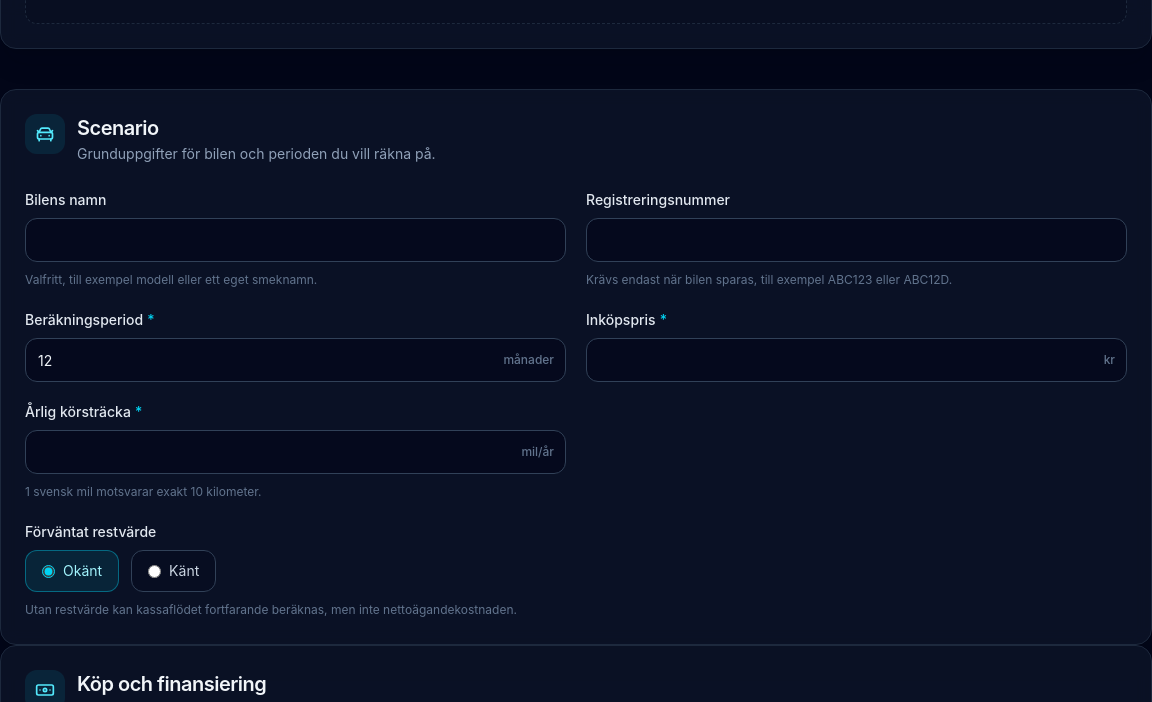
it: ManualCalculatorPage › shows the complete calculation breakdown and marks it stale after editing
(page scrolled)
Type "20000" into the field labelled "Inköpspris*" at (856, 360), box [586,338,1127,382]
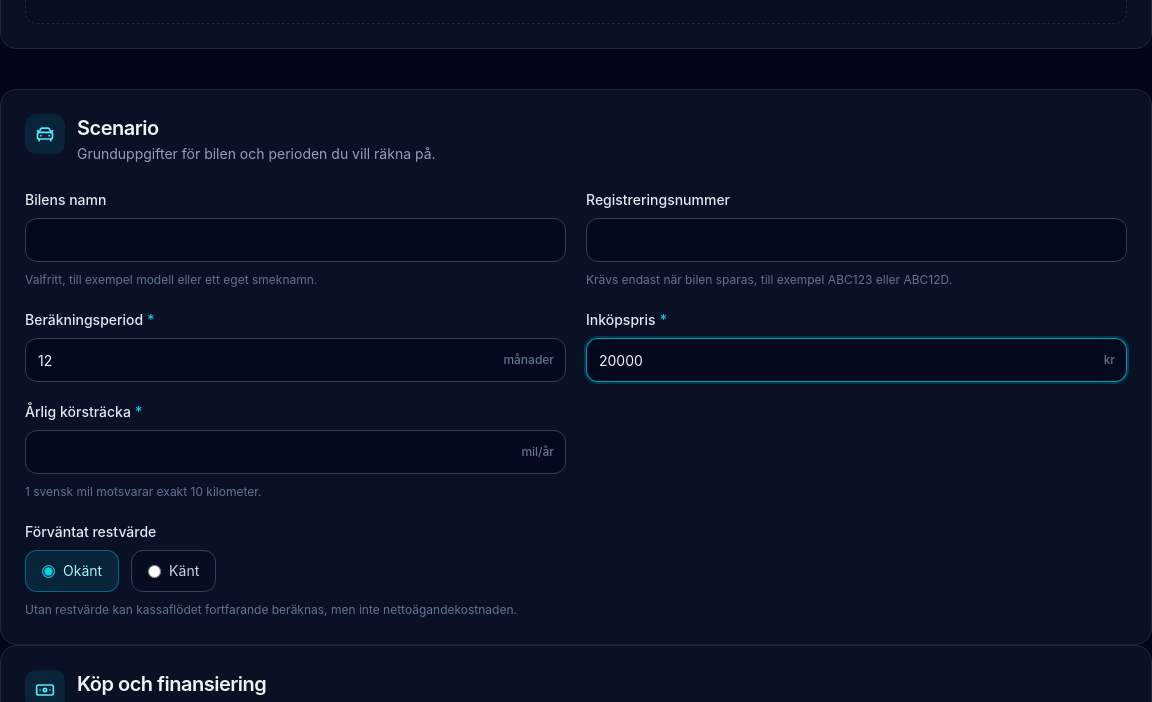
Type "0" into the field labelled "Årlig körsträcka*" at (296, 452), box [25,430,566,474]
(page scrolled)
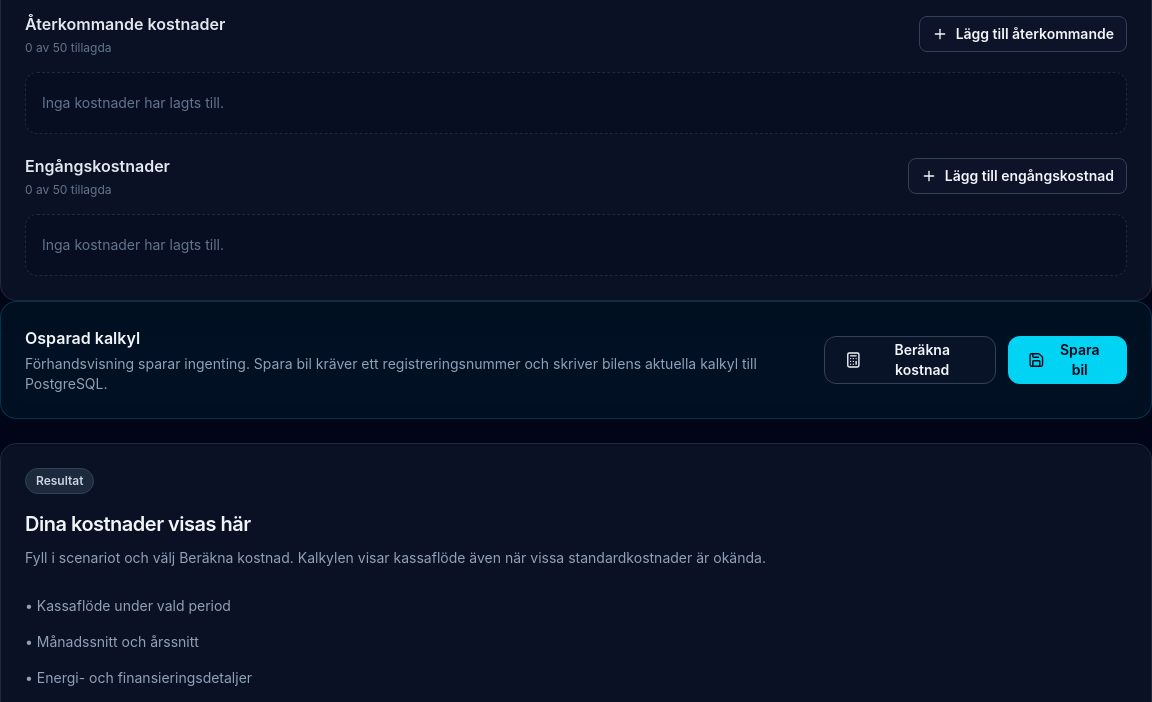
Click the button "Beräkna kostnad" at (910, 360), box [824,336,996,384]
(page scrolled)
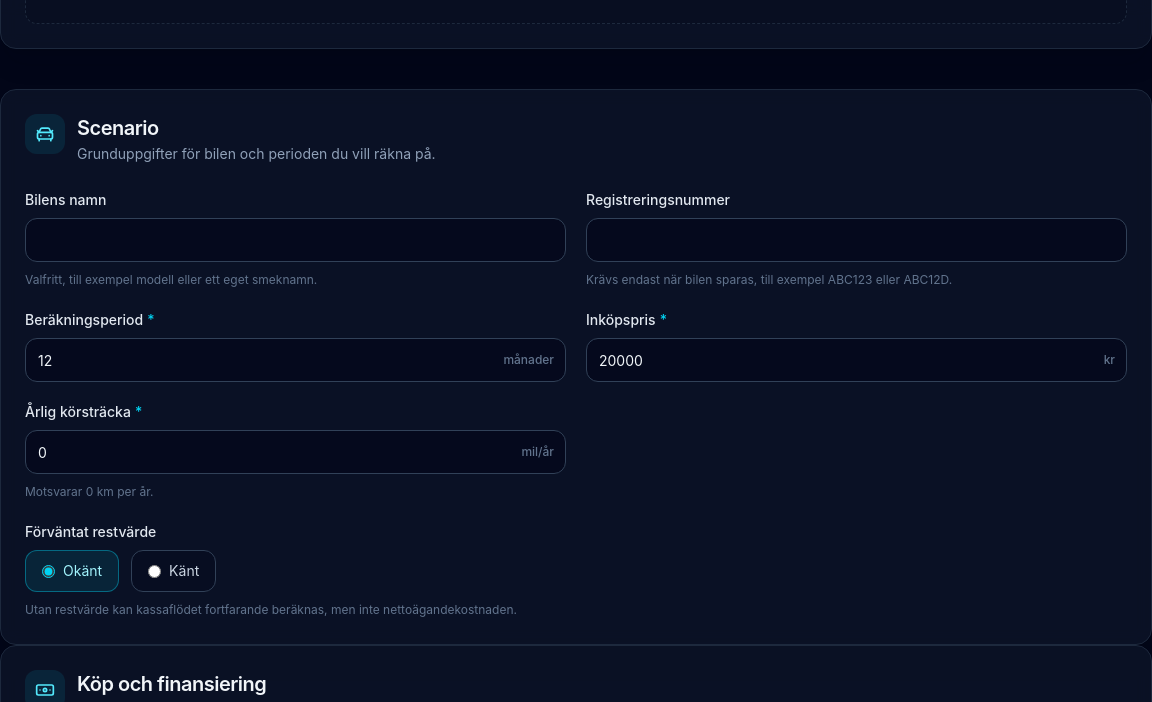
Type "0" into the field labelled "Inköpspris*" at (856, 360), box [586,338,1127,382]
(page scrolled)
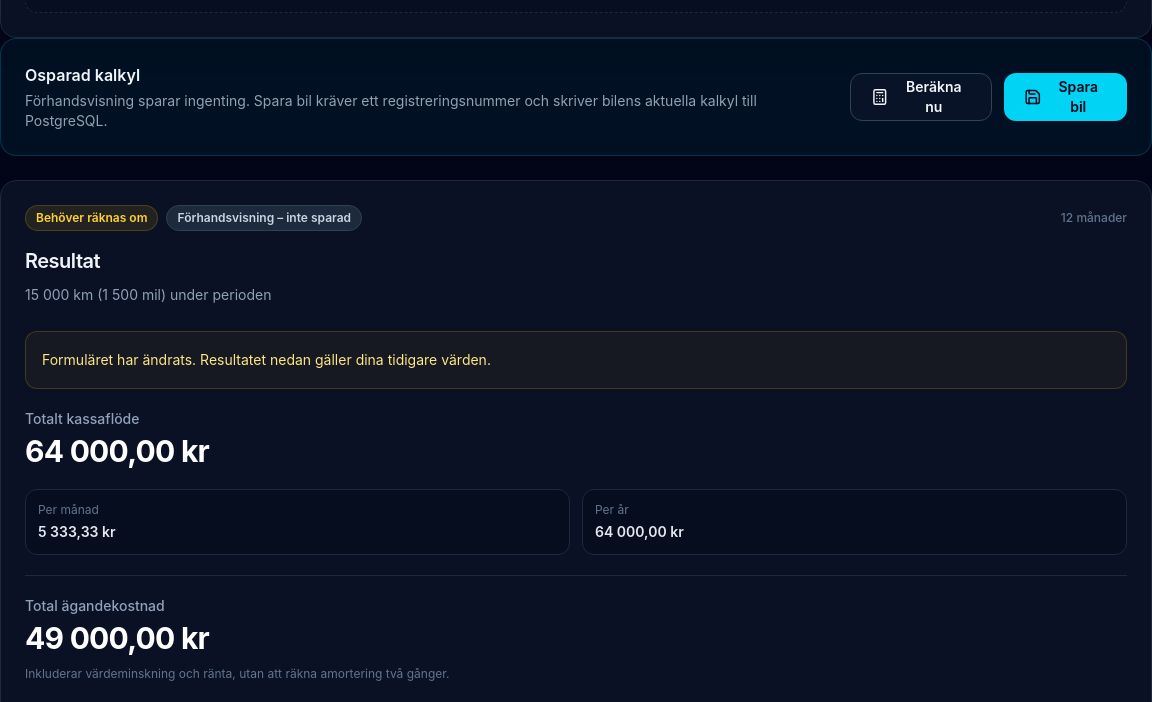
Expected: the text "Behöver räknas om" is shown, [25,205,158,231]
Expected: the text "Resultatet nedan gäller dina tidigare värden" is shown, [42,351,491,368]
